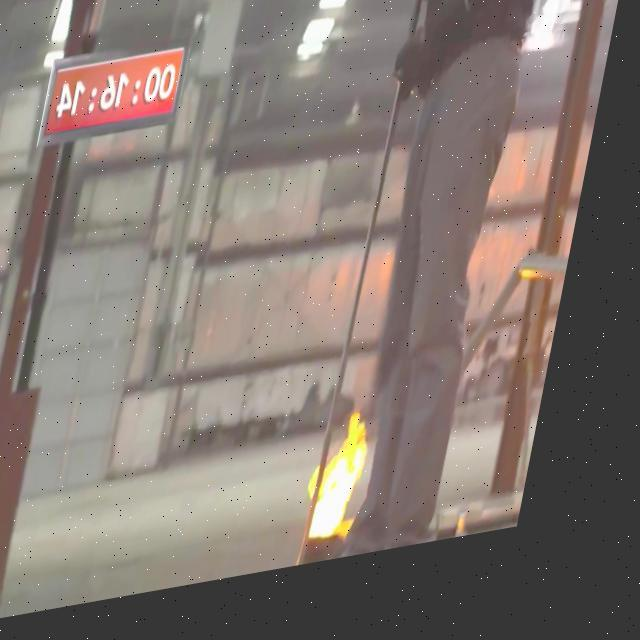Fire: (318, 426, 400, 560)
